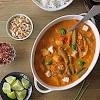curry: (34, 12, 95, 88)
